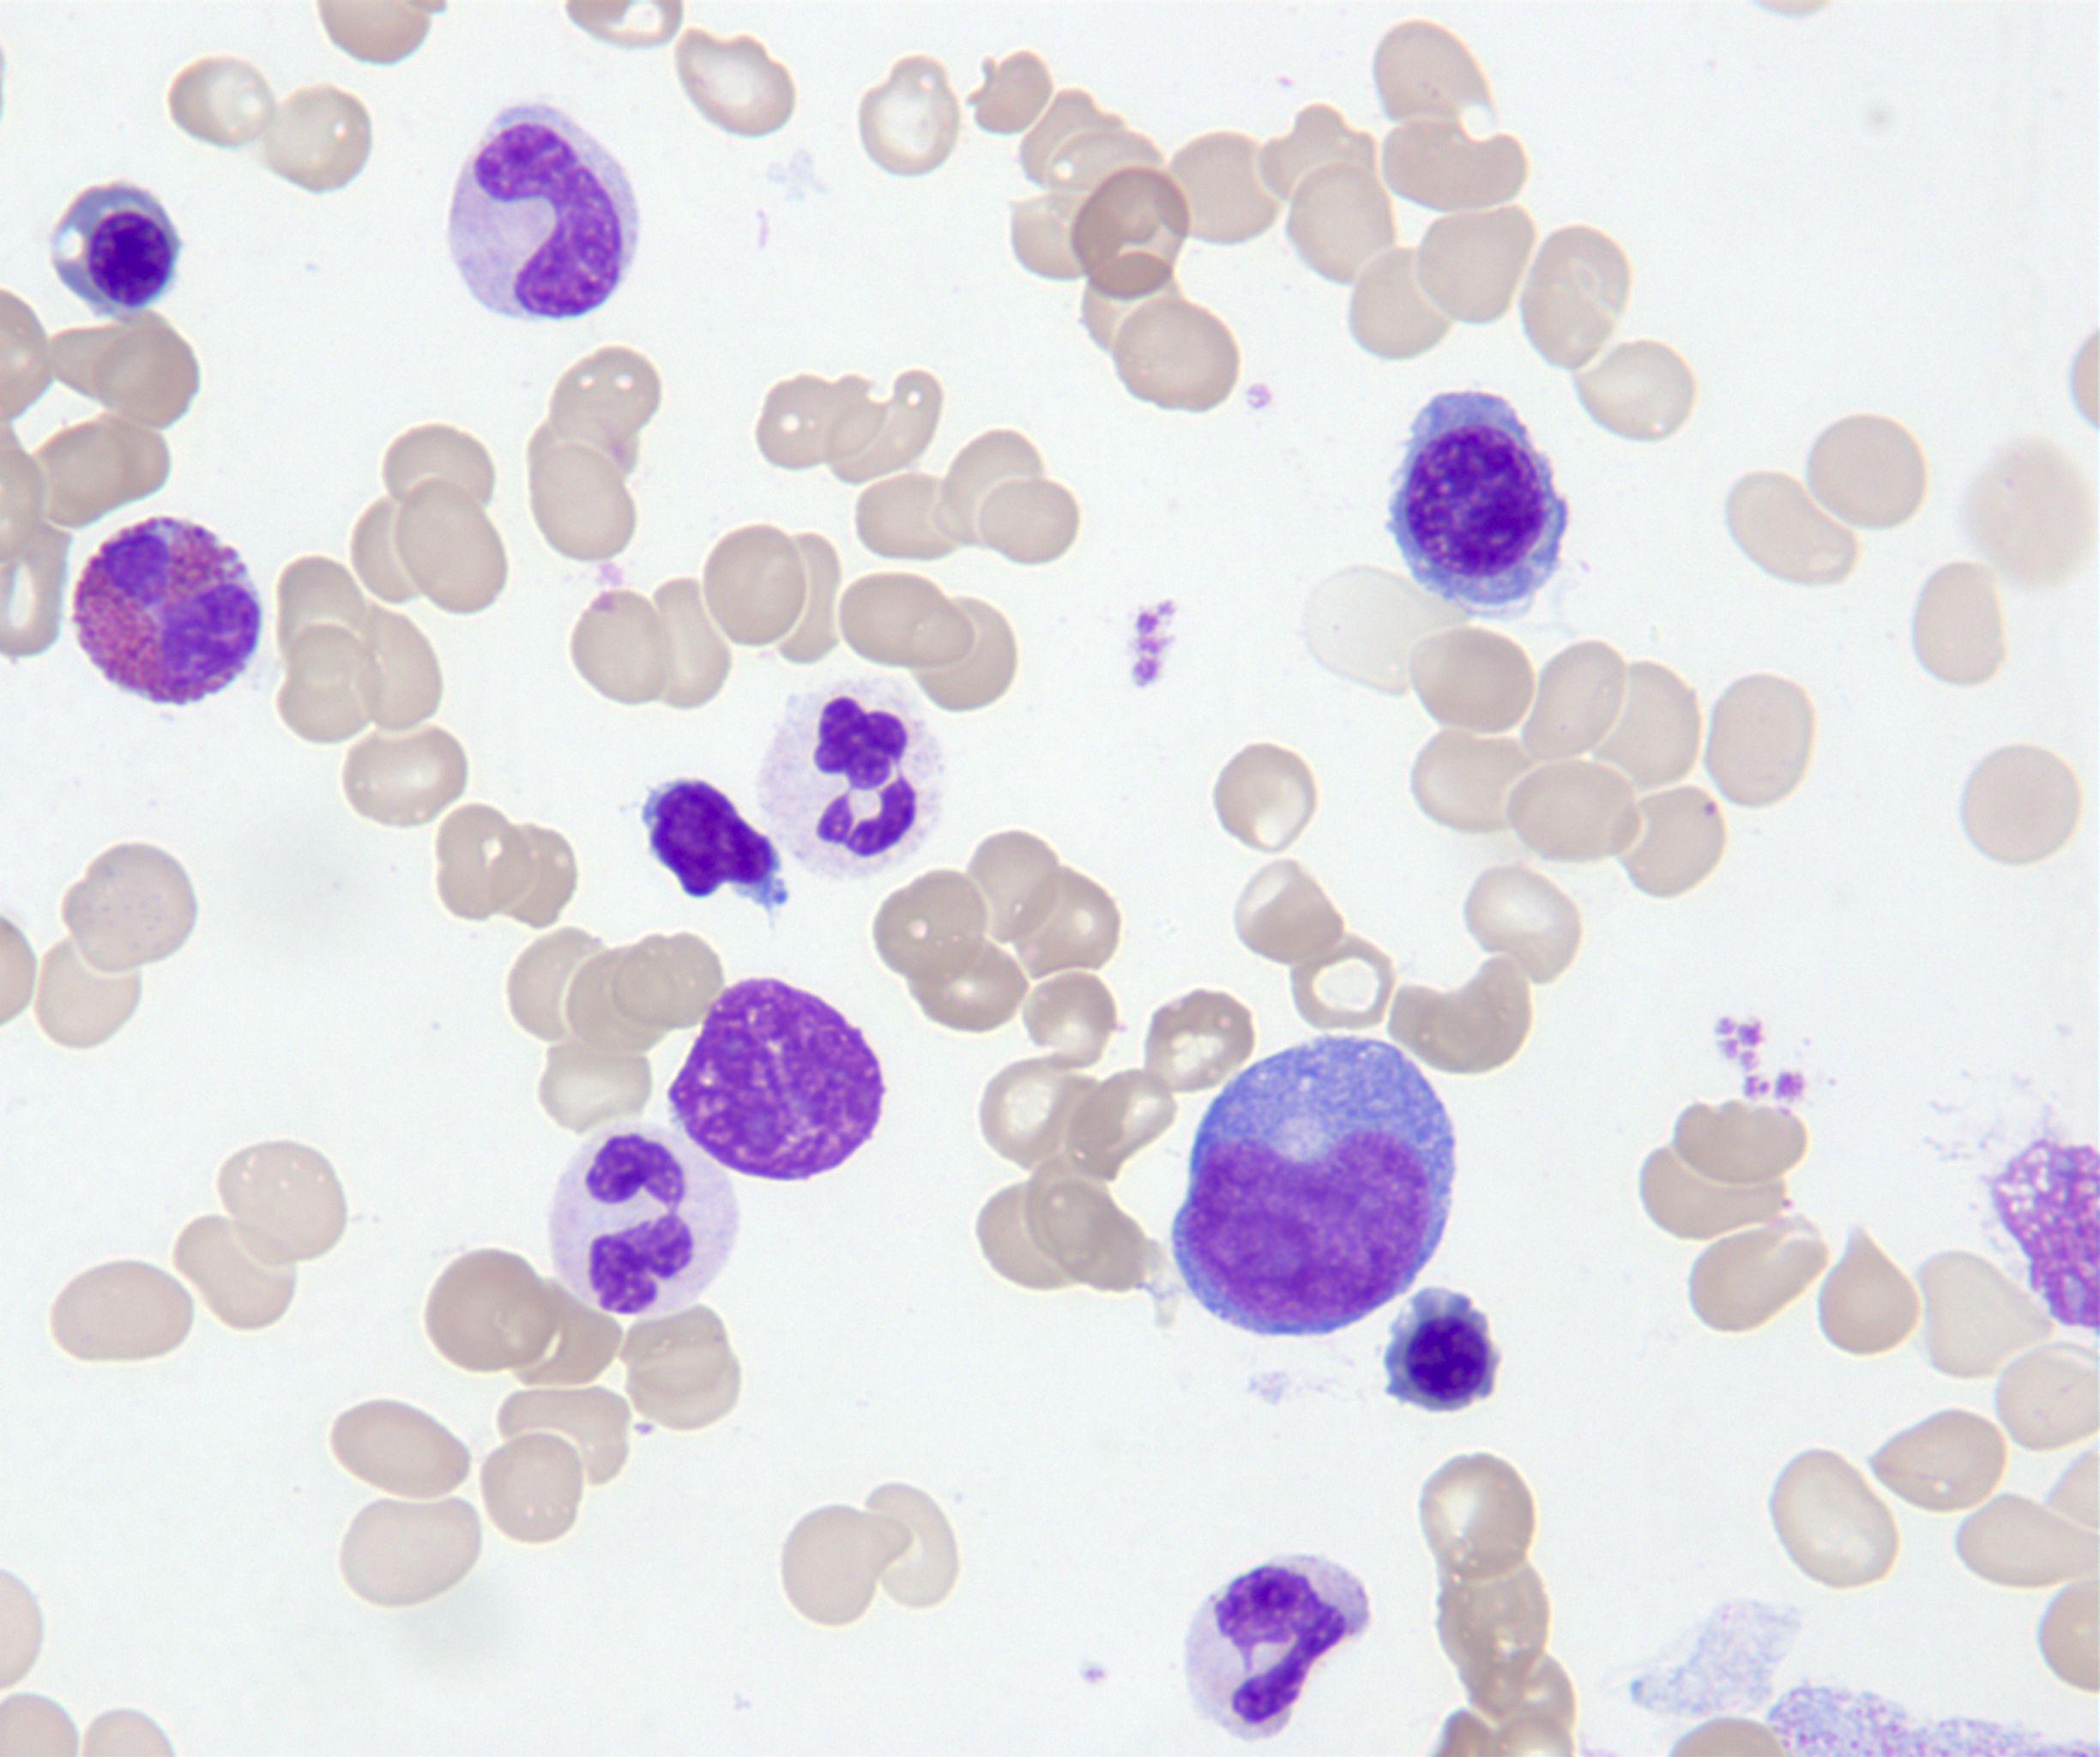23: (1385, 391, 1568, 616)
24: (51, 183, 181, 321), (1387, 1286, 1500, 1412)
3: (1172, 1036, 1455, 1338)
32: (642, 780, 788, 906)
5: (447, 105, 638, 319)
6: (548, 1111, 740, 1317), (759, 672, 944, 883), (1186, 1553, 1369, 1741)
E4: (73, 516, 262, 701)
x: (670, 979, 884, 1183)
